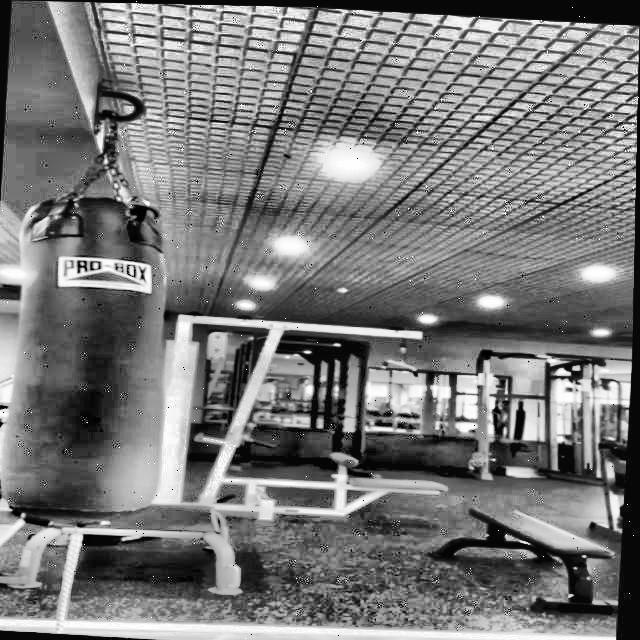boxing-bag: (9, 80, 183, 532)
